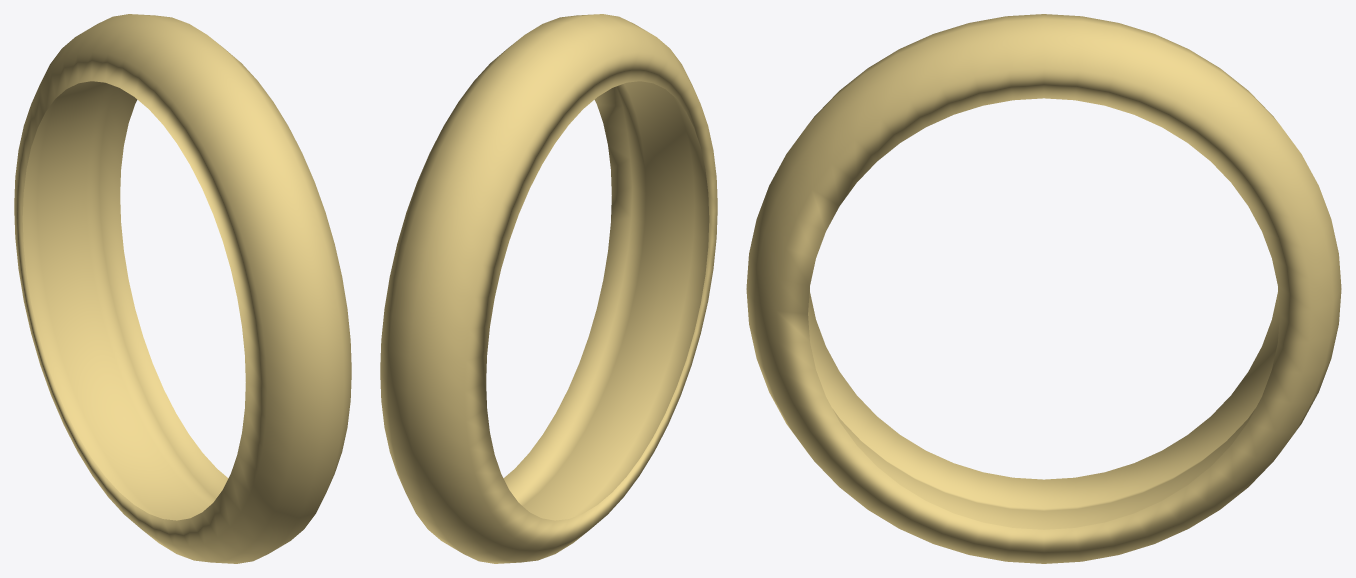
Rendered from ring.glb.
3 views of the same model, side by side, from view 1: azimuth 30°, elevation 25°; view 2: azimuth 150°, elevation 25°; view 3: azimuth 270°, elevation 25° (orthographic). The views are drawn at different scales.
Visible parts, largest first — view 1: Torus.003; view 2: Torus.003; view 3: Torus.003.
Part boxes in pixels (x1,y1,x2,y2): Torus.003: [14, 14, 351, 563]; Torus.003: [380, 14, 717, 563]; Torus.003: [746, 14, 1341, 563].
Bounding box in the file's own units: 0.5 × 2.5 × 2.5.
